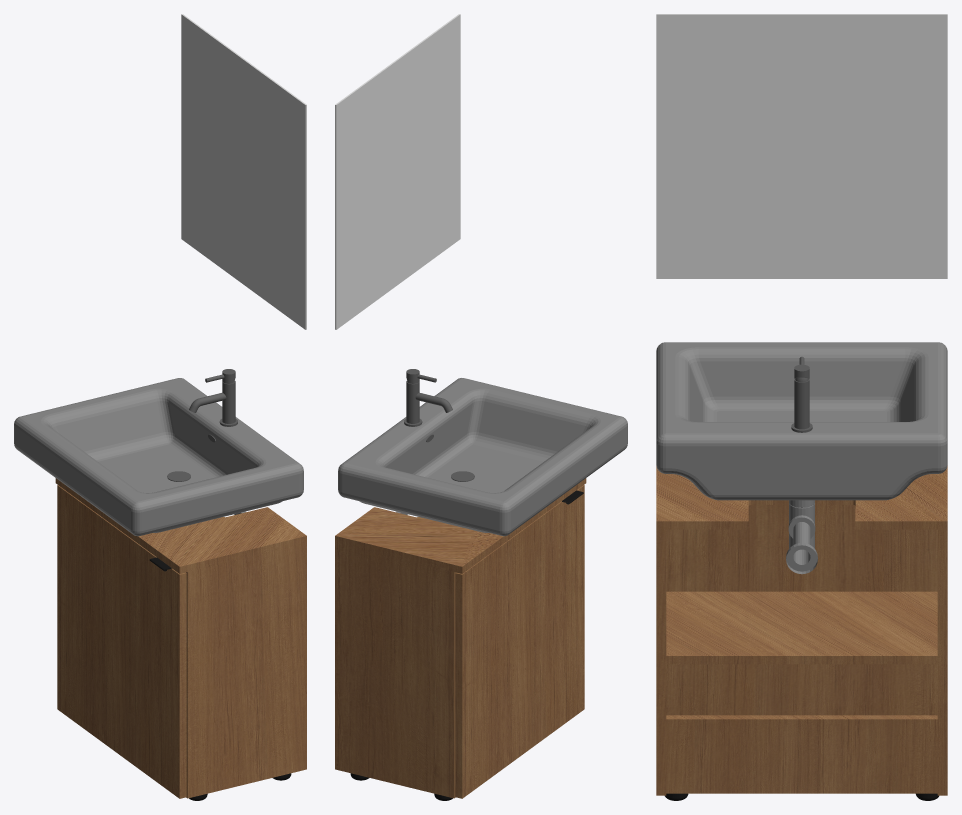
File: Washbasin_dark.gltf
3 views of the same model, side by side, from view 1: azimuth 30°, elevation 25°; view 2: azimuth 150°, elevation 25°; view 3: azimuth 270°, elevation 25° (orthographic). The views are drawn at different scales.
Parts seen in each view (by area): view 1: Washbasin_wood, Mirror, water_tap, Washbasin.001; view 2: Washbasin_wood, Mirror, water_tap, Washbasin.001; view 3: Washbasin_wood, Mirror, water_tap, Washbasin.001.
Part boxes in pixels (x1,y1,x2,y2): Washbasin_wood: (55, 478, 306, 798); Mirror: (181, 14, 306, 329); water_tap: (14, 378, 303, 536); Washbasin.001: (189, 369, 237, 426); Washbasin_wood: (335, 478, 586, 798); Mirror: (335, 14, 460, 329); water_tap: (338, 378, 627, 536); Washbasin.001: (404, 369, 452, 426); Washbasin_wood: (656, 466, 947, 795); Mirror: (656, 14, 947, 278); water_tap: (656, 342, 947, 574); Washbasin.001: (791, 356, 812, 432).
Bounding box in the file's own units: 0.4799 × 1.8 × 0.5996.
Materials: 5 (1 with a texture image).
